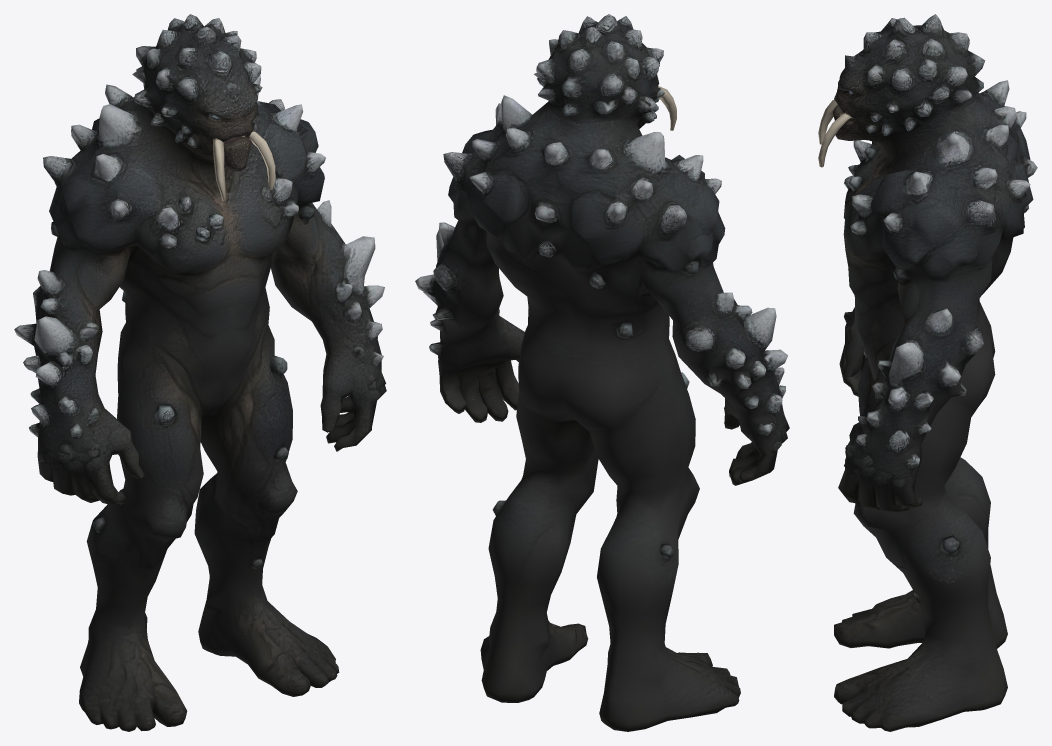
Rendered from 019efae2-c7bd-726e-90d3-fe1a359b8184.glb.
The picture shows the model from 3 angles, left to right: view 1: azimuth 30°, elevation 25°; view 2: azimuth 150°, elevation 25°; view 3: azimuth 270°, elevation 25°; orthographic projection.
Visible parts, largest first — view 1: tripo_node_94e7ca8e-03e1-43b8-b794-b80561fcf98b; view 2: tripo_node_94e7ca8e-03e1-43b8-b794-b80561fcf98b; view 3: tripo_node_94e7ca8e-03e1-43b8-b794-b80561fcf98b.
Part boxes in pixels (<box>): tripo_node_94e7ca8e-03e1-43b8-b794-b80561fcf98b: <box>14,14,386,731</box>; tripo_node_94e7ca8e-03e1-43b8-b794-b80561fcf98b: <box>415,14,789,731</box>; tripo_node_94e7ca8e-03e1-43b8-b794-b80561fcf98b: <box>818,14,1037,731</box>.
Size of the model in its own units: 0.5488 by 0.998 by 0.3027.
Materials: 1 (1 with a texture image).
